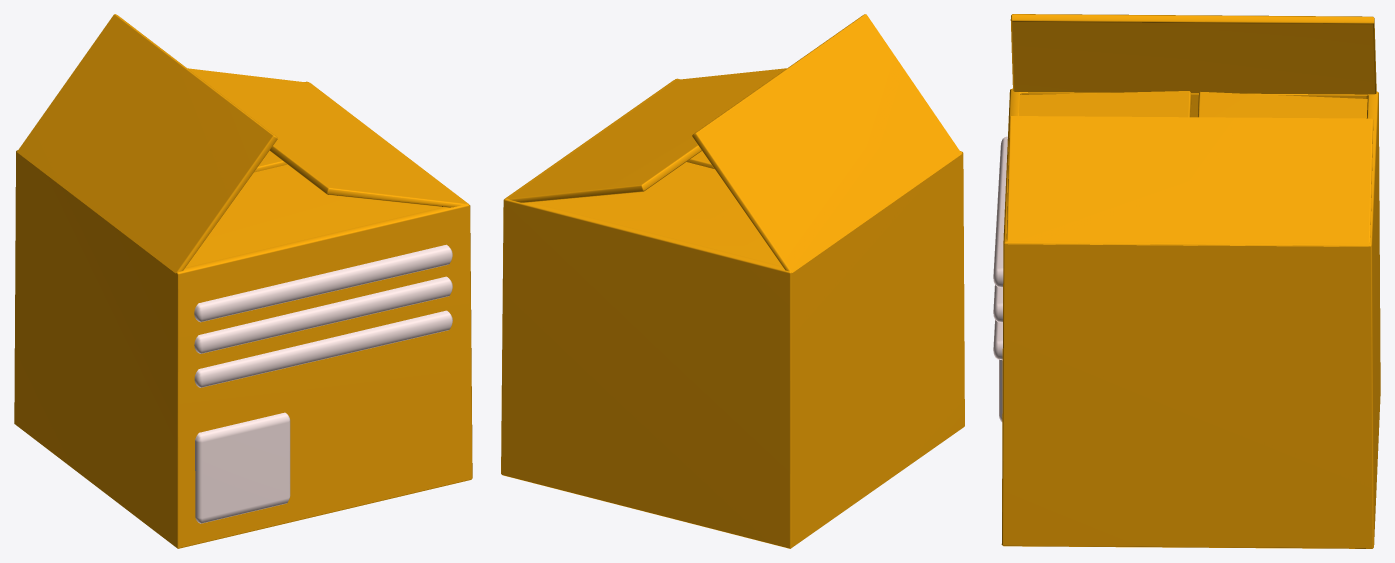
Rendered from Public_6_Box_11.glb.
3 renders of one model, left to right at view 1: azimuth 30°, elevation 25°; view 2: azimuth 150°, elevation 25°; view 3: azimuth 270°, elevation 25°, orthographic. The views are drawn at different scales.
Parts seen in each view (by area): view 1: Public_6_Box_11; view 2: Public_6_Box_11; view 3: Public_6_Box_11.
Part boxes in pixels (bbox=[...]): Public_6_Box_11: bbox=[14, 14, 472, 548]; Public_6_Box_11: bbox=[501, 14, 964, 548]; Public_6_Box_11: bbox=[993, 14, 1380, 548].
Size of the model in its own units: 1.35 by 1.68 by 1.38.
1 material, 1 textured.
